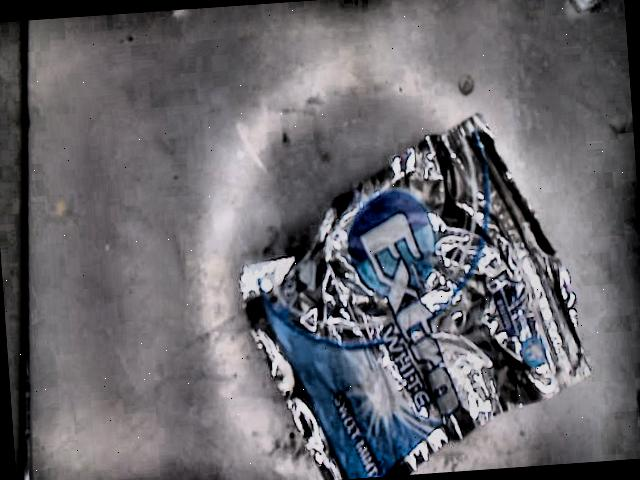Plastic: (239, 112, 593, 480)
